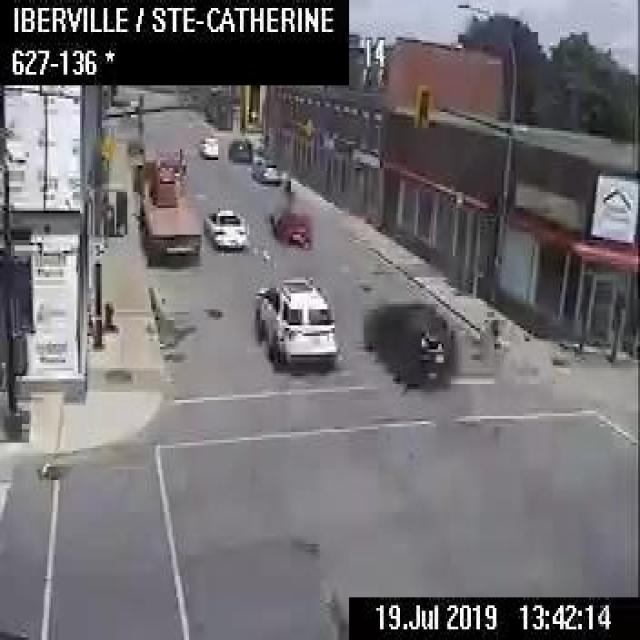vehicle: (362, 300, 457, 384), (254, 273, 336, 364), (137, 144, 202, 258), (204, 207, 246, 249), (269, 207, 309, 244), (250, 158, 279, 181), (226, 136, 252, 161), (196, 130, 218, 156)
